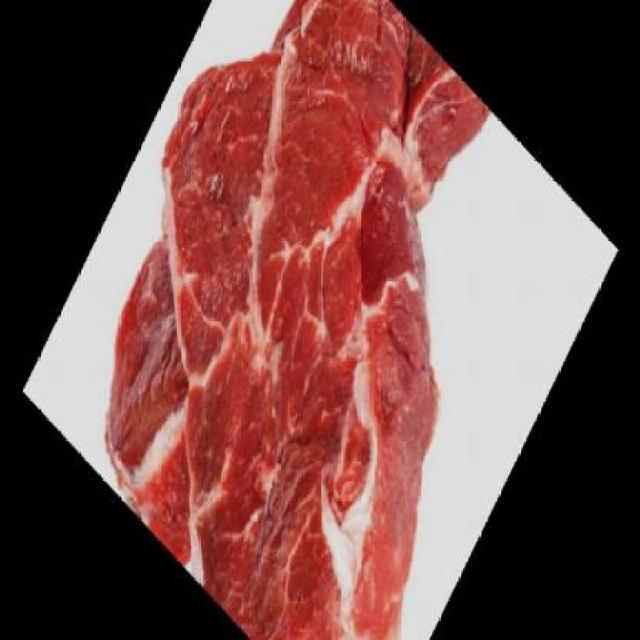beaf: (34, 0, 611, 638)
